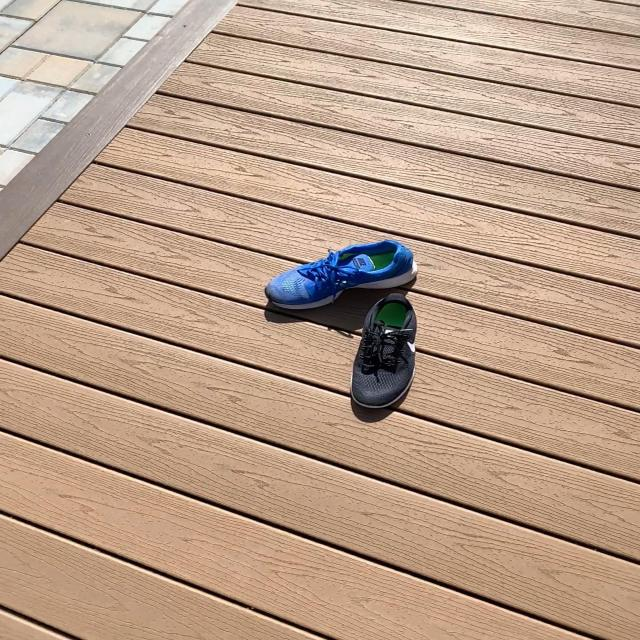shoe: (262, 241, 416, 313), (350, 297, 418, 415)
